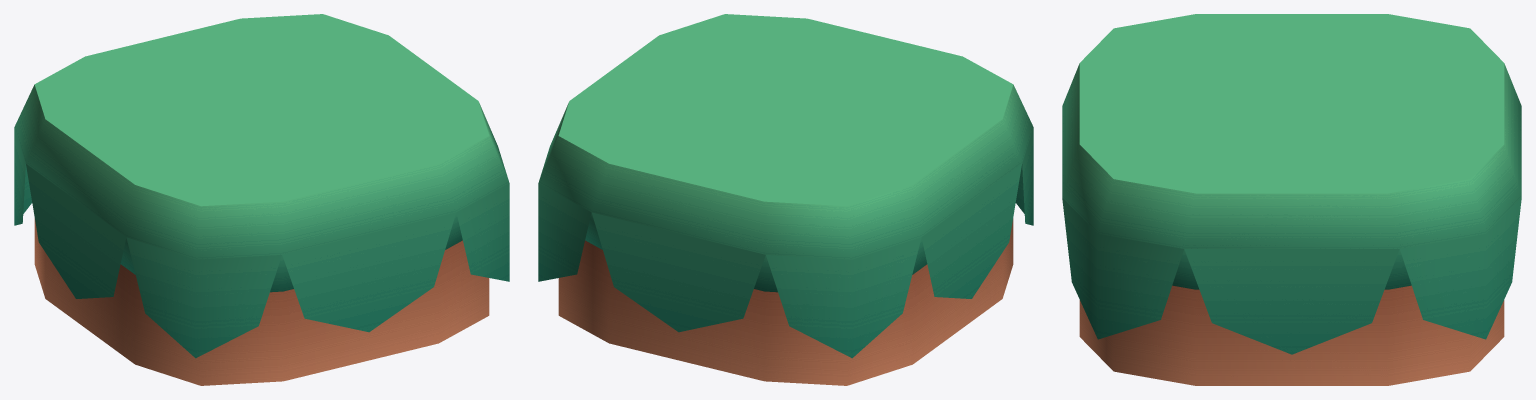
The model's file is block-grass-overhang-low.glb.
3 views of the same model, side by side, from view 1: azimuth 30°, elevation 25°; view 2: azimuth 150°, elevation 25°; view 3: azimuth 270°, elevation 25° (orthographic). The views are drawn at different scales.
Parts seen in each view (by area): view 1: block-grass-overhang-low; view 2: block-grass-overhang-low; view 3: block-grass-overhang-low.
Boxes of the visible parts, left/top/right/bottom form: block-grass-overhang-low: left=14, top=14, right=509, bottom=385; block-grass-overhang-low: left=538, top=14, right=1033, bottom=385; block-grass-overhang-low: left=1062, top=14, right=1521, bottom=385.
Bounding box in the file's own units: 1.08 × 0.5 × 1.08.
Materials: 1 (1 with a texture image).
